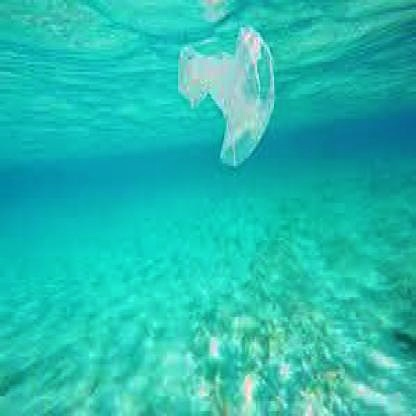pbag: (176, 22, 275, 166)
